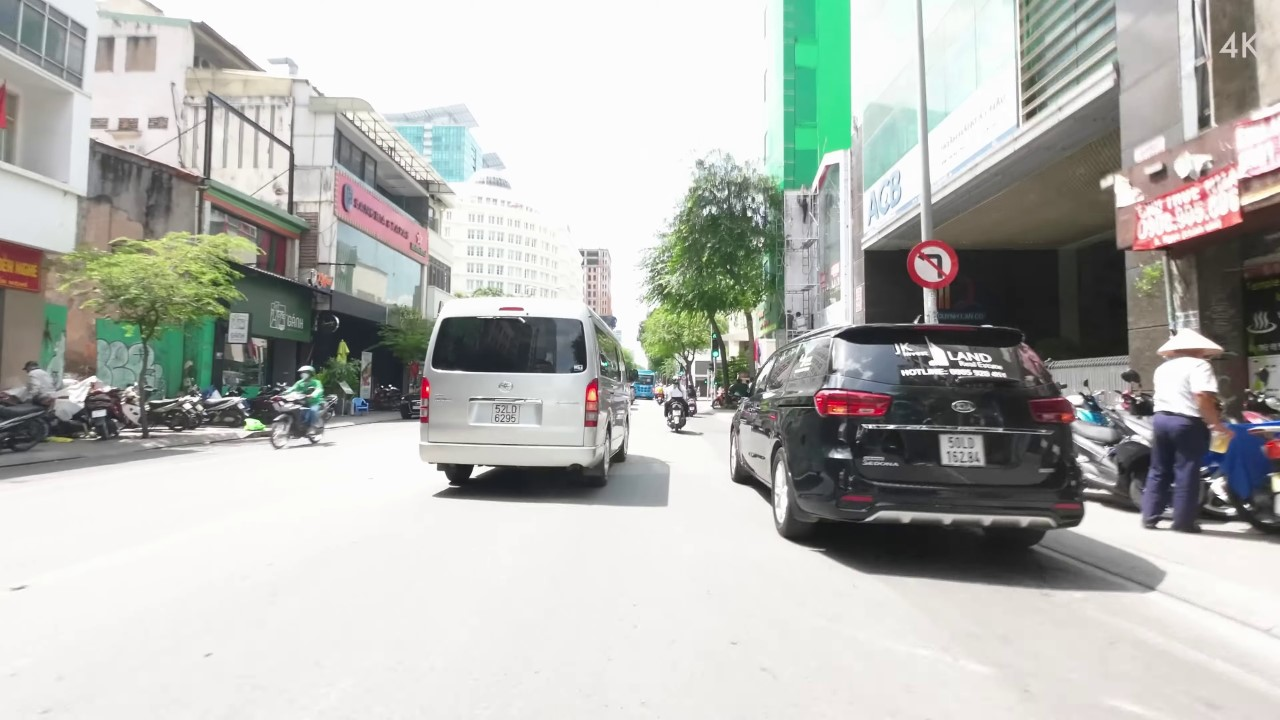cam_re_trai: (901, 237, 962, 291)
